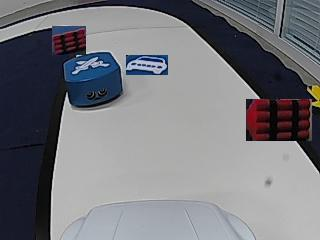spy: (72, 57, 109, 74)
